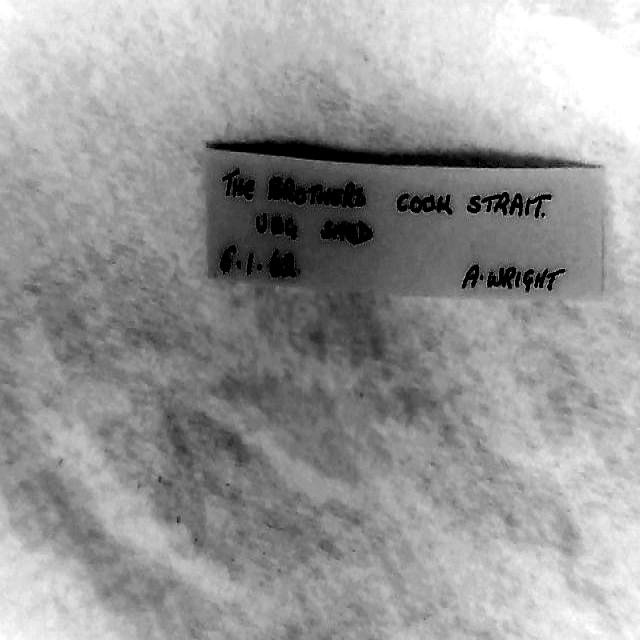hand_label: (208, 148, 601, 296)
